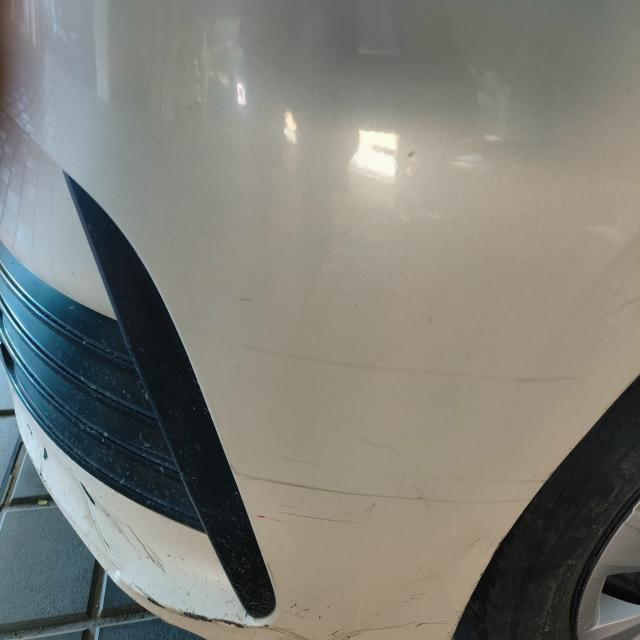scratch: (226, 331, 592, 398), (233, 467, 525, 529), (271, 566, 456, 636), (78, 472, 168, 578), (134, 584, 268, 634)
